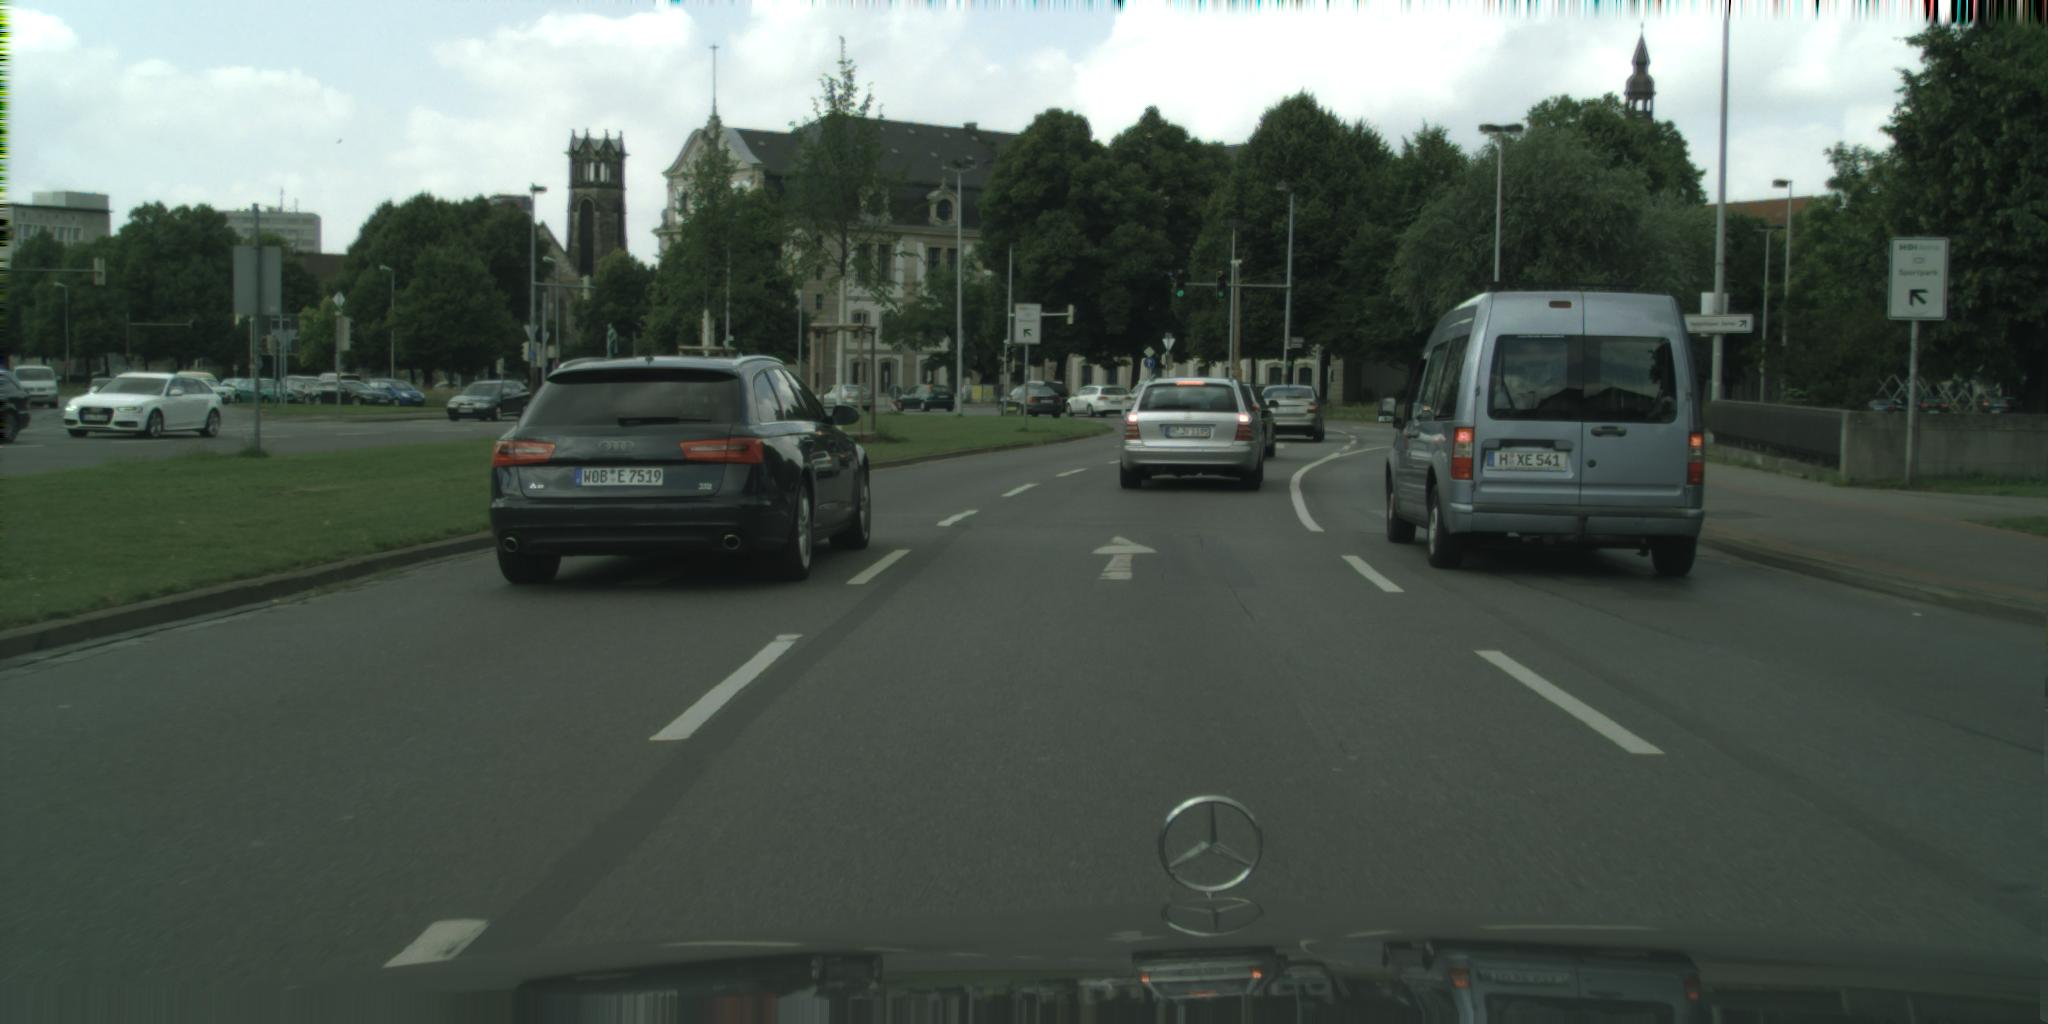car: (1377, 282, 1706, 577), (488, 357, 872, 586), (1121, 377, 1273, 492), (61, 372, 225, 440), (1708, 1, 1731, 441), (1247, 387, 1330, 444), (281, 374, 394, 408), (447, 380, 533, 423), (1, 366, 63, 408), (1, 366, 31, 444), (1064, 384, 1134, 418), (310, 381, 394, 408), (999, 387, 1063, 418), (806, 384, 872, 411), (366, 379, 428, 408), (234, 377, 298, 405), (896, 384, 955, 413), (218, 377, 277, 405), (281, 376, 330, 408), (1121, 381, 1157, 421), (1984, 396, 2026, 421), (1866, 400, 1910, 421), (1917, 394, 1950, 421), (88, 379, 121, 404), (431, 381, 462, 392)
